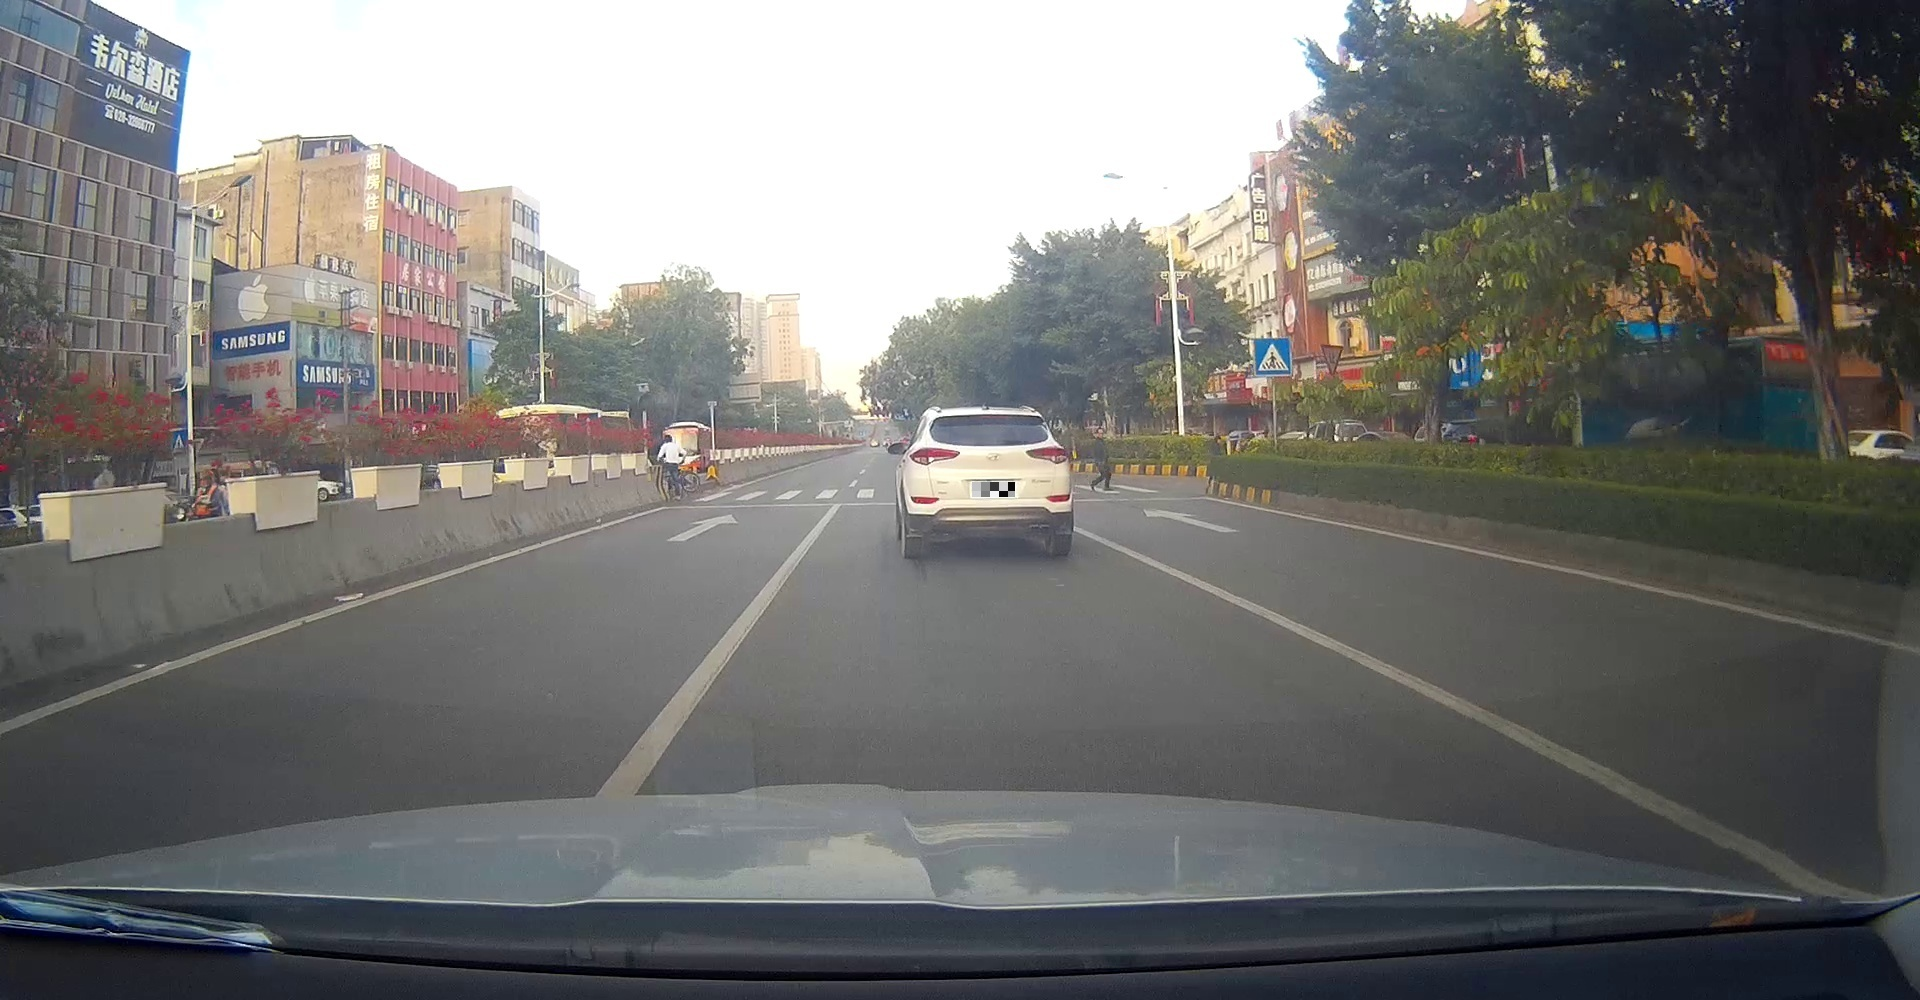L_light: (908, 447, 961, 466)
R_light: (1025, 445, 1068, 464)
T_light: (982, 415, 1008, 419)
day-no: (904, 407, 1073, 558)
plate_1: (971, 482, 1015, 497)
